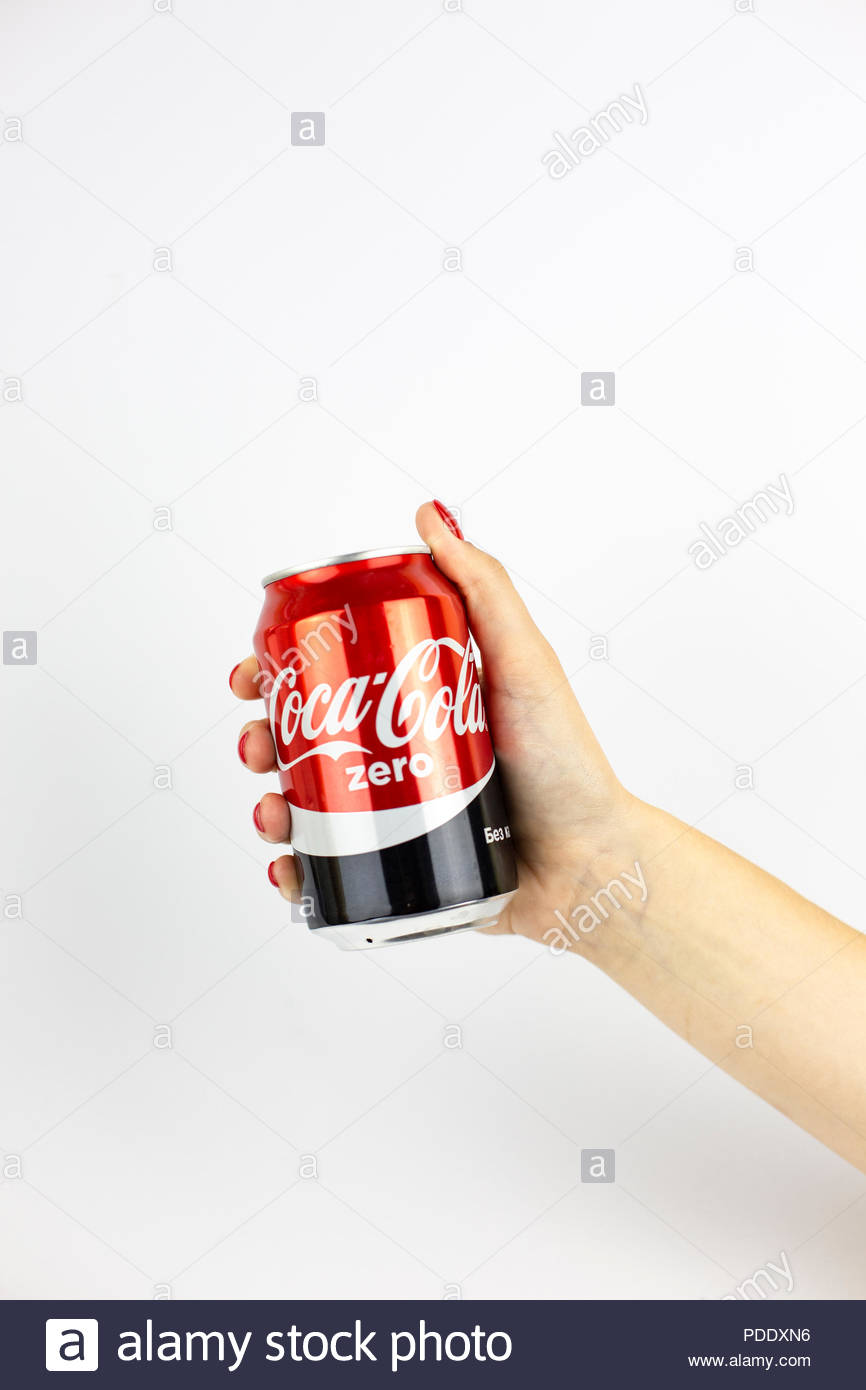coke: (261, 562, 537, 948)
